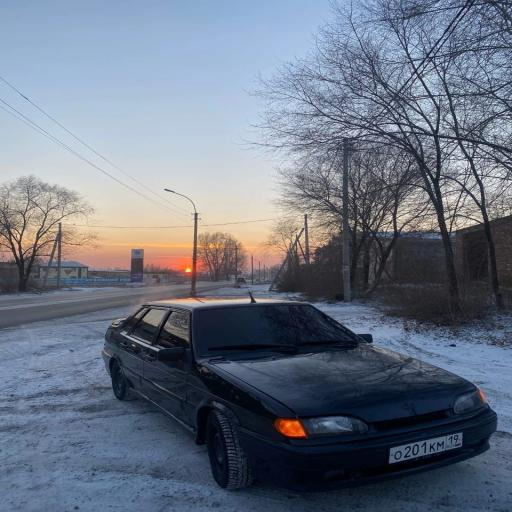bottle: (96, 284, 506, 494)
phone: (151, 181, 210, 293), (329, 136, 366, 302), (41, 222, 63, 292)
